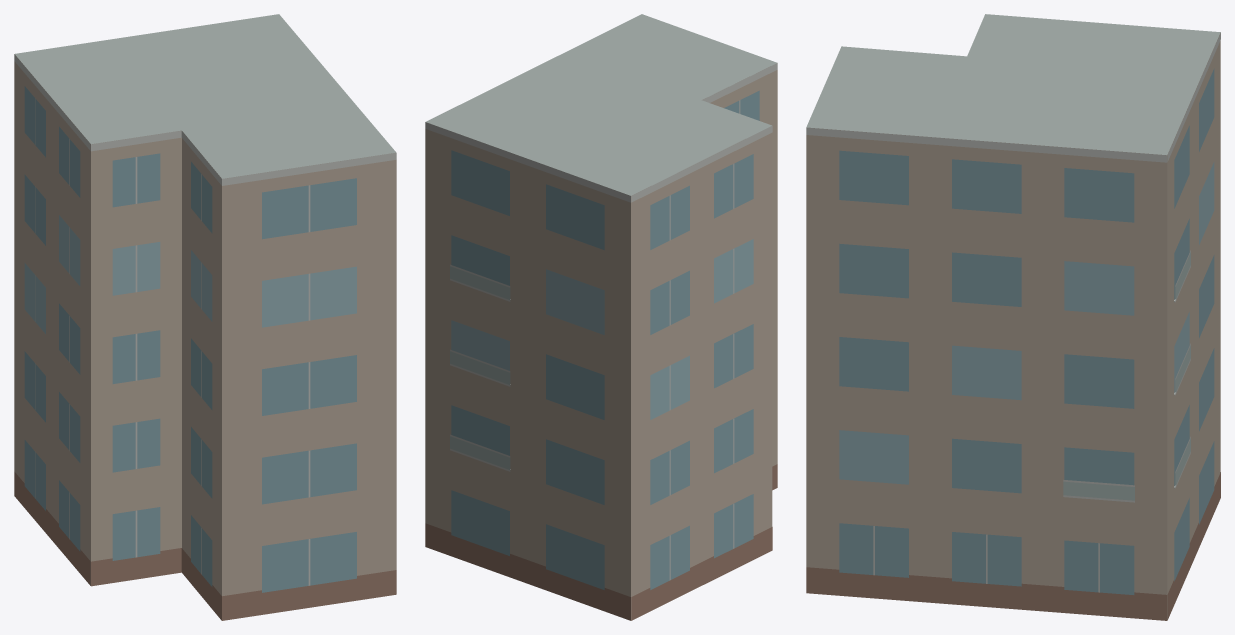
Rendered from survey-upis-32996881.glb.
3 renders of one model, left to right at view 1: azimuth 30°, elevation 25°; view 2: azimuth 150°, elevation 25°; view 3: azimuth 270°, elevation 25°, orthographic. The views are drawn at different scales.
Parts seen in each view (by area): view 1: survey-upis-32996881.tmp; view 2: survey-upis-32996881.tmp; view 3: survey-upis-32996881.tmp.
Part boxes in pixels (x1=…): survey-upis-32996881.tmp: x1=14, y1=14, x2=396, y2=620; survey-upis-32996881.tmp: x1=425, y1=14, x2=777, y2=620; survey-upis-32996881.tmp: x1=806, y1=14, x2=1220, y2=620.
Bounding box in the file's own units: 9.86 × 15.15 × 12.23.
